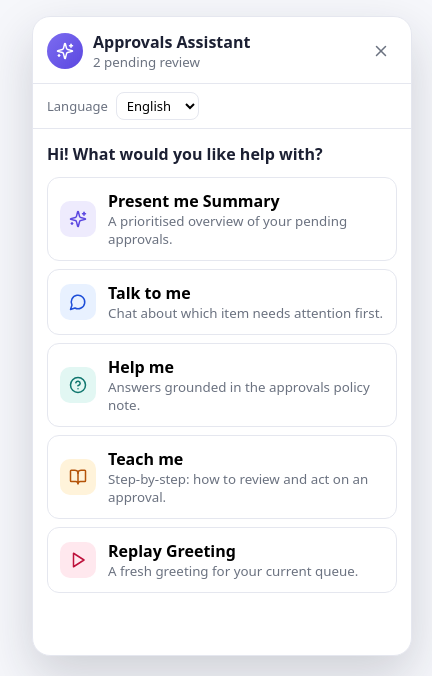
Test: error and fallback states › keeps the partial answer and shows an alert when the stream is cut mid-answer
The image size is (432, 676).
Step 1. Click the button "Present me Summary" → (222,219), box [47, 177, 397, 261]
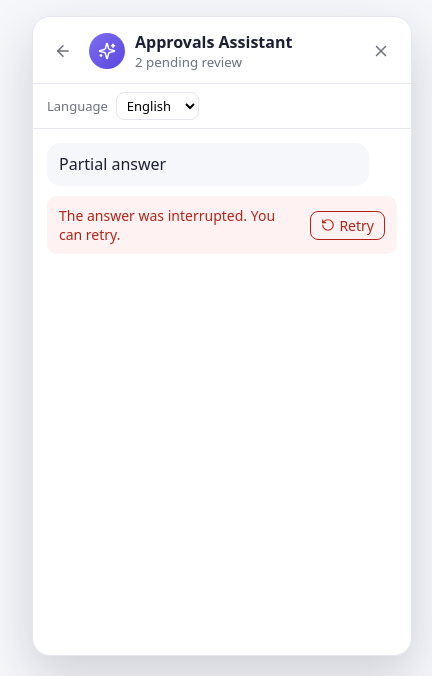
Now the text "Partial answer" is shown, box [47, 143, 369, 186]
Now the message shows "interrupted", box [59, 206, 275, 244]
